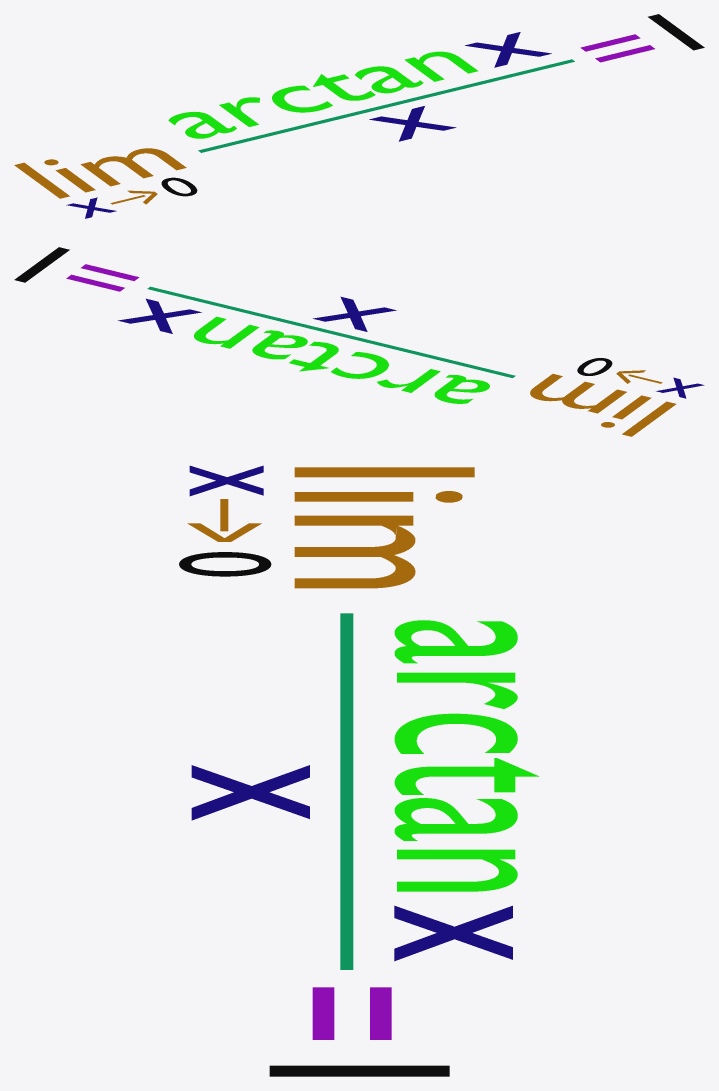
The picture shows the model from 3 angles, top to bottom: view 1: azimuth 30°, elevation 25°; view 2: azimuth 150°, elevation 25°; view 3: azimuth 270°, elevation 25°; orthographic projection. The views are drawn at different scales.
Visible parts, largest first — view 1: LR 9; view 2: LR 9; view 3: LR 9.
Part boxes in pixels (box(x1,y1,x2,y2)): LR 9: box(14, 14, 704, 218); LR 9: box(14, 247, 704, 436); LR 9: box(179, 465, 539, 1076).
Bounding box in the file's own units: 5.48 × 0.00118 × 1.37.
